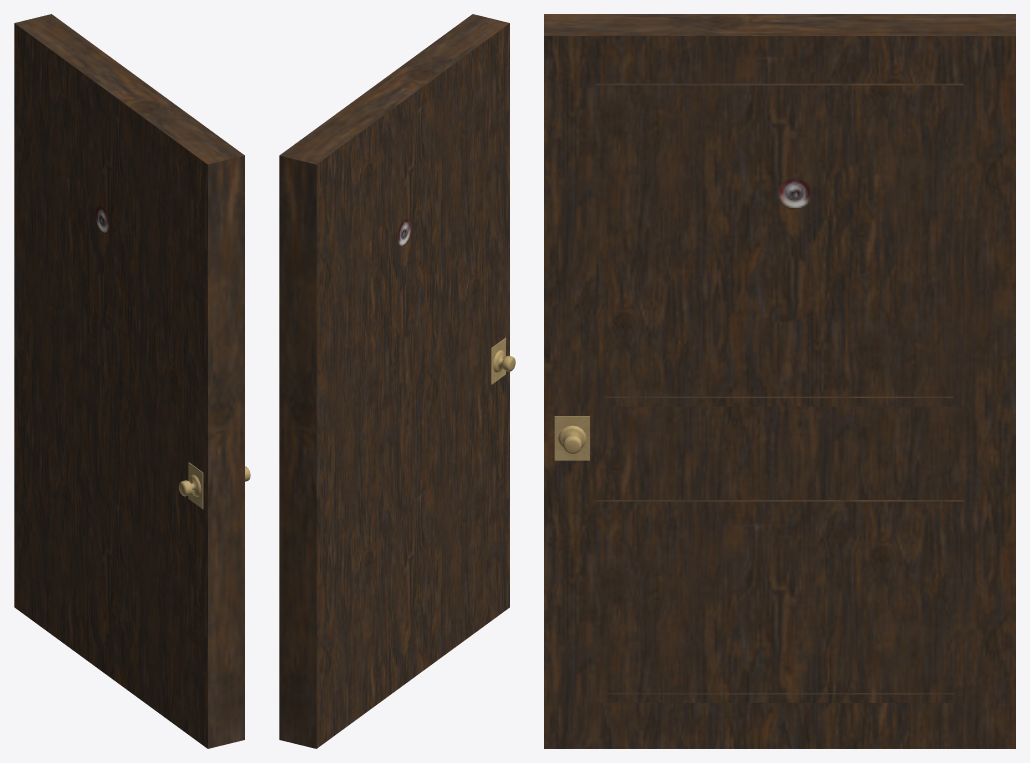
Rendered from Door.fbx.
3 renders of one model, left to right at view 1: azimuth 30°, elevation 25°; view 2: azimuth 150°, elevation 25°; view 3: azimuth 270°, elevation 25°, orthographic. The views are drawn at different scales.
Parts seen in each view (by area): view 1: Plane; view 2: Plane; view 3: Plane.
Boxes of the visible parts, x1,y1,x2,y2 form: Plane: [14, 14, 250, 748]; Plane: [279, 14, 515, 748]; Plane: [544, 14, 1015, 748].
Size of the model in its own units: 35.55 by 300 by 180.
